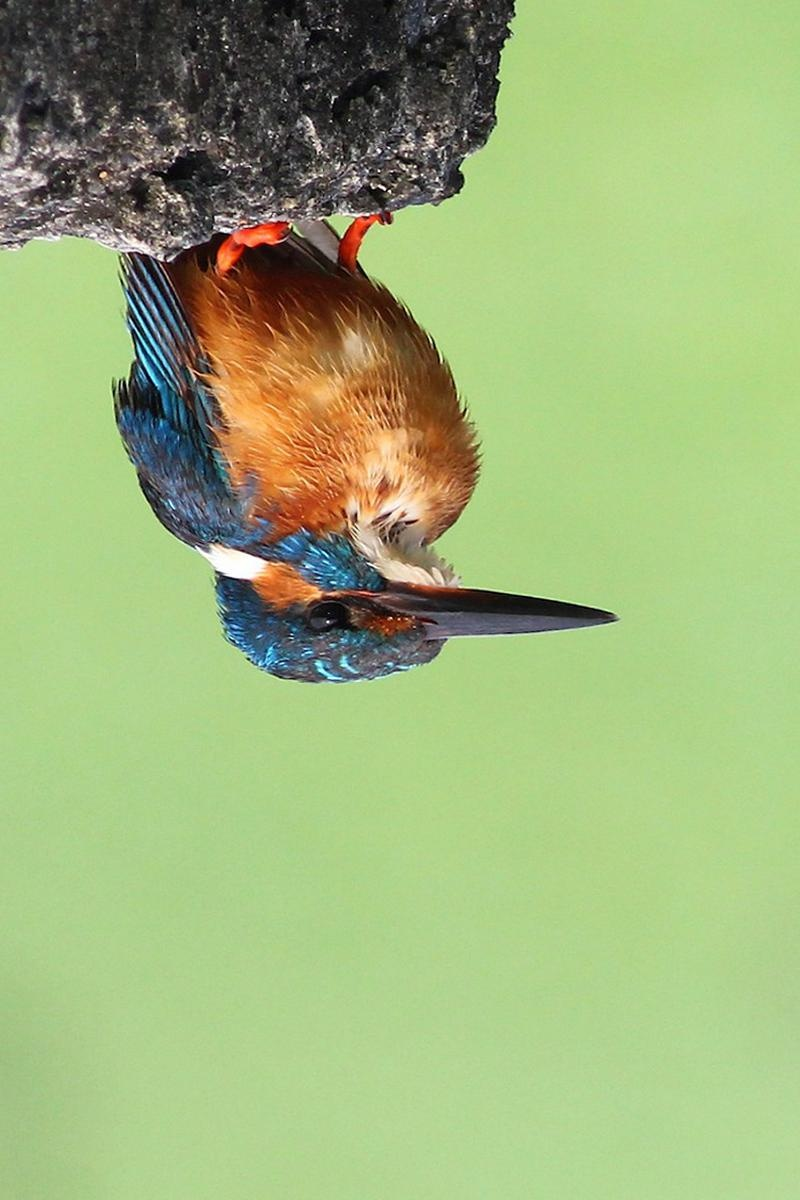kingfisher: (97, 208, 647, 707)
